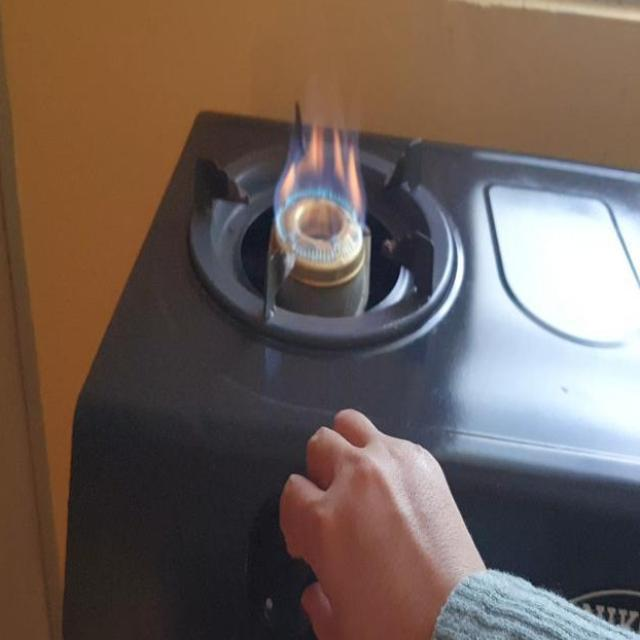smoke: (274, 102, 368, 270)
